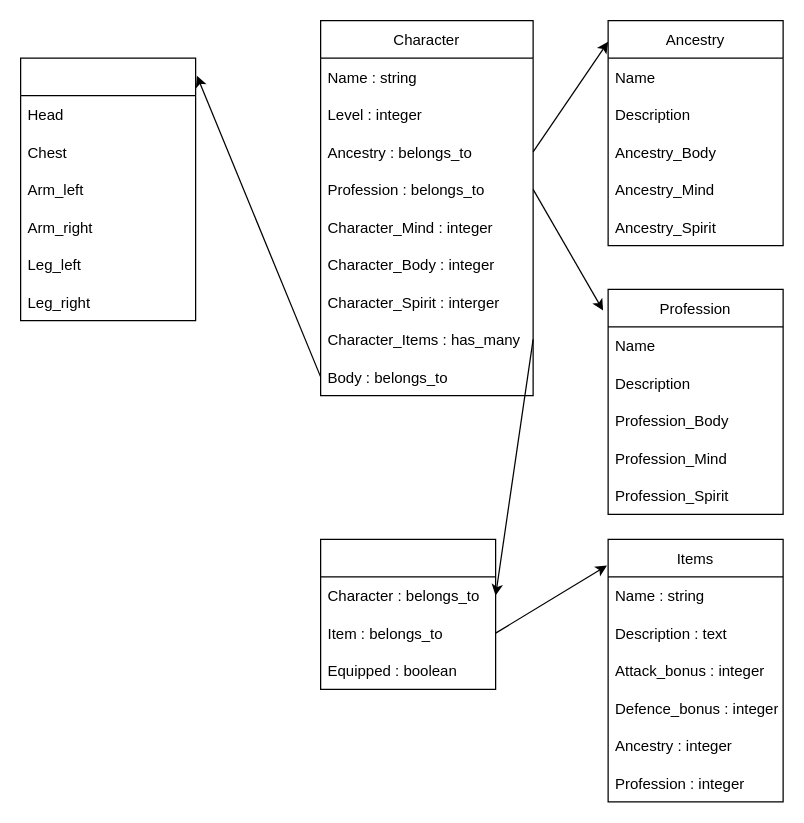
Some shapes in this 804 by 823 pixel diagram are drawn without their labels. Each missing label, with the box of its shape:
Body: (19, 57, 196, 321)
Character_items: (319, 538, 496, 689)
